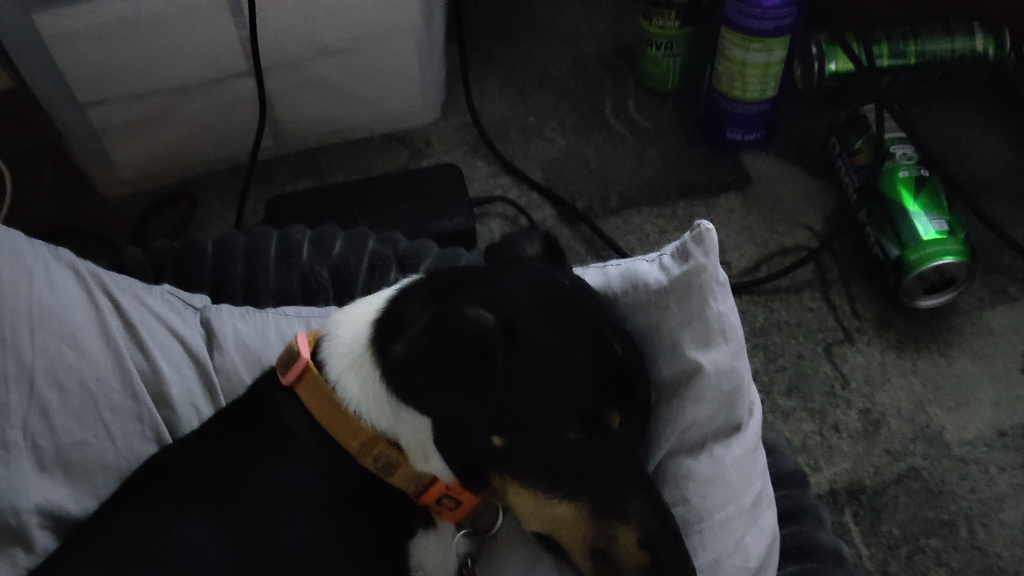Dog: (20, 218, 714, 576)
